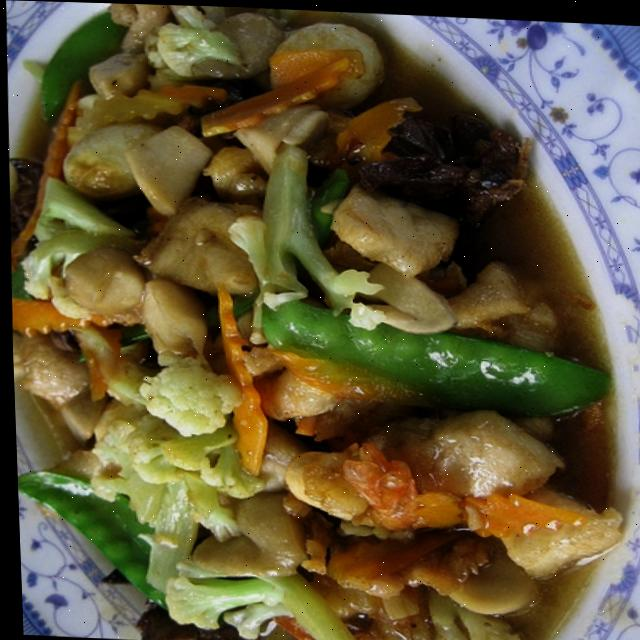蔬菜料理: (0, 7, 636, 640)
